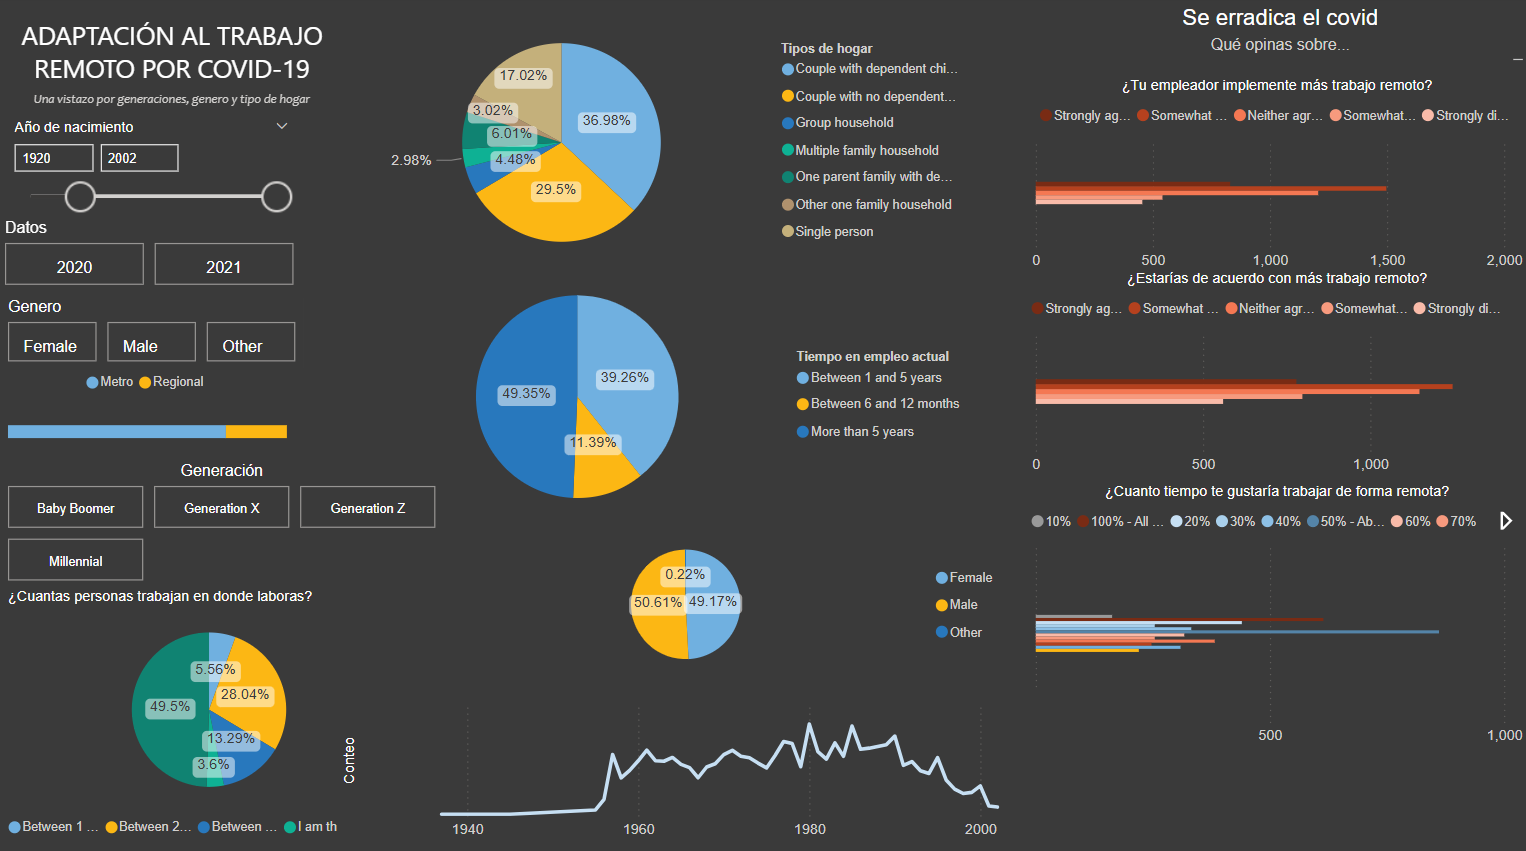

This screenshot's page, from the dashboard's own definition file:
{"tool":"powerbi","page":{"name":"Dashboard","canvas":[1280,720],"ordinal":0},"visuals":[{"type":"pieChart","fields":{"Y":["CountNonNull(Append1.gender)"],"Series":["Append1.gender"]},"box":[362.7,444.2,484.1,125.9],"z":0},{"type":"hundredPercentStackedBarChart","fields":{"Y":["CountNonNull(Append1.metro_or_regional)"],"Series":["Append1.metro_or_regional"]},"box":[5.3,303.3,243,85.1],"z":1000},{"type":"pieChart","fields":{"Y":["CountNonNull(Append1.type_of_household)"],"Series":["Append1.type_of_household"]},"box":[283.7,7.1,534.7,229.7],"z":2000},{"type":"pieChart","title":"¿Cuantas personas trabajan en donde laboras?","fields":{"Y":["CountNonNull(Append1.total_amount_of_workers)"],"Series":["Append1.total_amount_of_workers"]},"box":[5.3,493.9,345.8,217.2],"z":3000},{"type":"pieChart","fields":{"Y":["CountNonNull(Append1.time_in_current_job)"],"Series":["Append1.time_in_current_job"]},"box":[297,216.4,521.4,235],"z":4000},{"type":"clusteredBarChart","title":"¿Tu empleador implemente más trabajo remoto?","fields":{"Y":["CountNonNull(Append1.covid19_eradicated_agree_with_employer_make_changes_to_more_remote_work)"],"Series":["Append1.covid19_eradicated_agree_with_employer_make_changes_to_more_remote_work"]},"box":[859.2,66.5,421.2,179.1],"z":5000},{"type":"clusteredBarChart","title":"¿Estarías de acuerdo con más trabajo remoto?","fields":{"Y":["CountNonNull(Append1.covid19_eradicated_agree_with_more_remote_work)"],"Series":["Append1.covid19_eradicated_agree_with_more_remote_work"]},"box":[859.2,227.9,421.2,178.2],"z":6000},{"type":"clusteredBarChart","title":"¿Cuanto tiempo te gustaría trabajar de forma remota?","fields":{"Y":["CountNonNull(Append1.covid19_eradicated_time_preferred_remotely_in_a_week)"],"Series":["Append1.covid19_eradicated_time_preferred_remotely_in_a_week"]},"box":[859.2,406.1,421.2,227],"z":7000},{"type":"slicer","fields":{"Values":["Append1.birth_year"]},"box":[2.7,96.7,253.6,88.7],"z":8000},{"type":"advancedSlicerVisual","fields":{"Values":["Append1.gender"]},"box":[5.3,251.8,251.8,58.5],"z":9000},{"type":"textbox","title":"ADAPTACIÓN AL TRABAJO REMOTO POR COVID-19","box":[5.3,16.8,283.7,80.7],"z":10000},{"type":"advancedSlicerVisual","fields":{"Values":["Append1.Year"]},"box":[2.7,185.3,377.7,60.3],"z":11000},{"type":"textbox","title":"Se erradica el covid","box":[865.4,7.1,415,50.5],"z":12000},{"type":"advancedSlicerVisual","fields":{"Values":["Append1.Generation"]},"box":[5.3,388.4,367.1,105.5],"z":13000},{"type":"lineChart","fields":{"Category":["Append1.Año de ncimiento"],"Y":["Sum(Append1.Año de ncimiento)"]},"box":[284.6,578.1,627.8,133],"z":14000}]}

Visuals, with their boxes in screenshot pixels (x1, y1, x2, y2), scaled from the page's 1280x720 canvas onto the 1526x851 screenshot:
pieChart - CountNonNull(Append1.gender) x Append1.gender: [x1=432, y1=525, x2=1010, y2=674]
hundredPercentStackedBarChart - CountNonNull(Append1.metro_or_regional) x Append1.metro_or_regional: [x1=6, y1=358, x2=296, y2=459]
pieChart - CountNonNull(Append1.type_of_household) x Append1.type_of_household: [x1=338, y1=8, x2=976, y2=280]
"¿Cuantas personas trabajan en donde laboras?" pieChart: [x1=6, y1=584, x2=419, y2=840]
pieChart - CountNonNull(Append1.time_in_current_job) x Append1.time_in_current_job: [x1=354, y1=256, x2=976, y2=534]
"¿Tu empleador implemente más trabajo remoto?" clusteredBarChart: [x1=1024, y1=79, x2=1525, y2=290]
"¿Estarías de acuerdo con más trabajo remoto?" clusteredBarChart: [x1=1024, y1=269, x2=1525, y2=480]
"¿Cuanto tiempo te gustaría trabajar de forma remota?" clusteredBarChart: [x1=1024, y1=480, x2=1525, y2=748]
slicer - Append1.birth_year: [x1=3, y1=114, x2=306, y2=219]
advancedSlicerVisual - Append1.gender: [x1=6, y1=298, x2=307, y2=367]
"ADAPTACIÓN AL TRABAJO REMOTO POR COVID-19" textbox: [x1=6, y1=20, x2=345, y2=115]
advancedSlicerVisual - Append1.Year: [x1=3, y1=219, x2=454, y2=290]
"Se erradica el covid" textbox: [x1=1032, y1=8, x2=1525, y2=68]
advancedSlicerVisual - Append1.Generation: [x1=6, y1=459, x2=444, y2=584]
lineChart - Append1.Año de ncimiento x Sum(Append1.Año de ncimiento): [x1=339, y1=683, x2=1088, y2=840]
